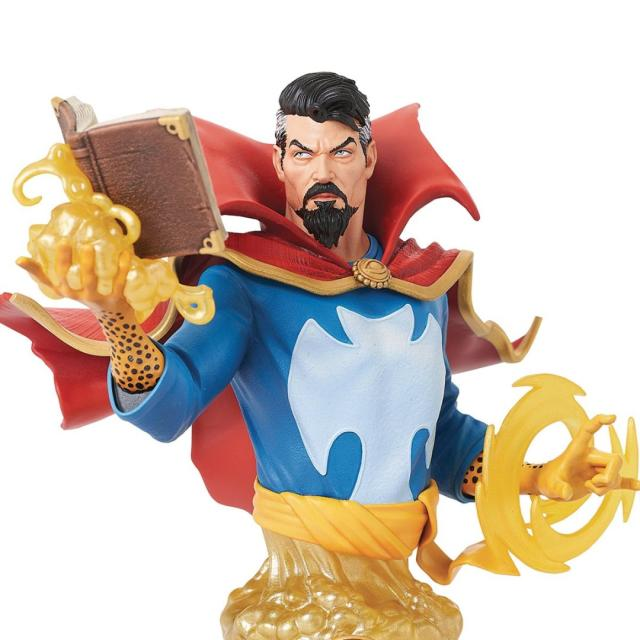doctor_strange: (44, 45, 633, 619)
